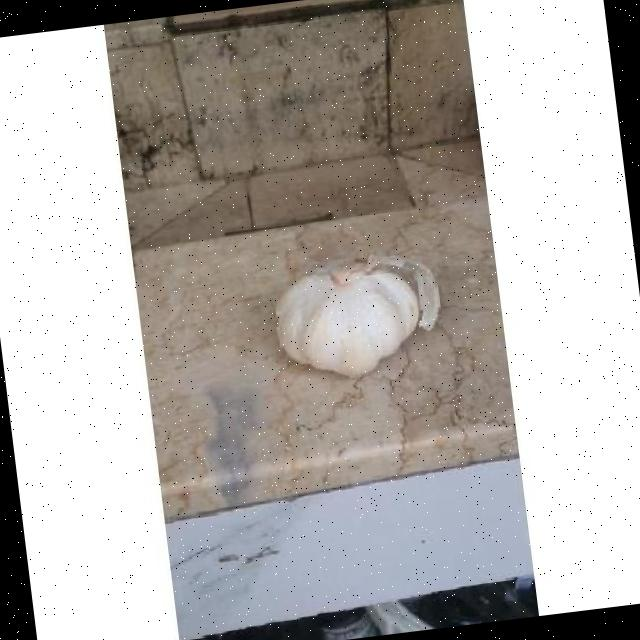garlic: (275, 256, 439, 377)
